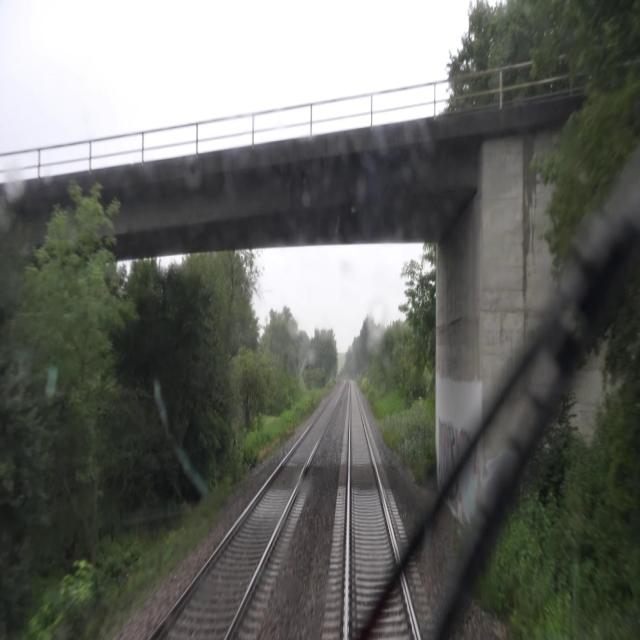rail-track: (153, 395, 337, 639), (348, 388, 416, 639)
